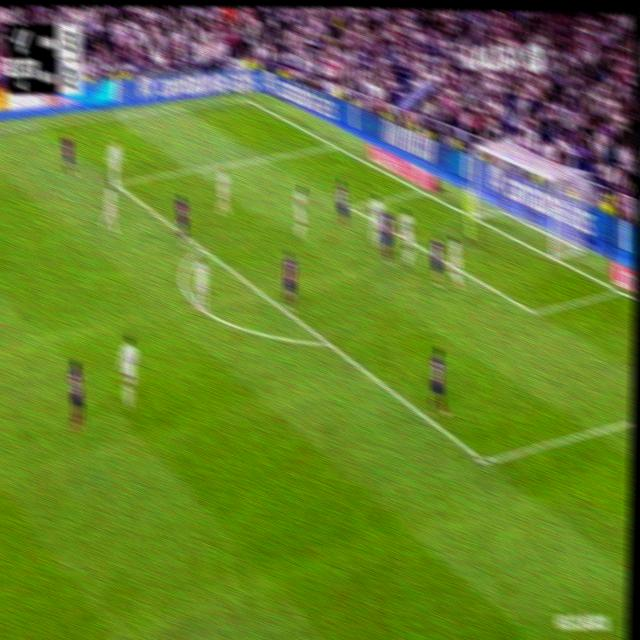bigarea_bottom_inner: (475, 444, 493, 477)
bigarea_top_outter: (326, 136, 340, 152)
bottom_arc_area_intersection: (319, 329, 334, 354)
corner: (237, 92, 251, 104)
smallarea_bottom_outter: (611, 281, 625, 299)
smallarea_top_inner: (345, 197, 357, 214)
top_arc_area_intersection: (195, 239, 205, 254)
